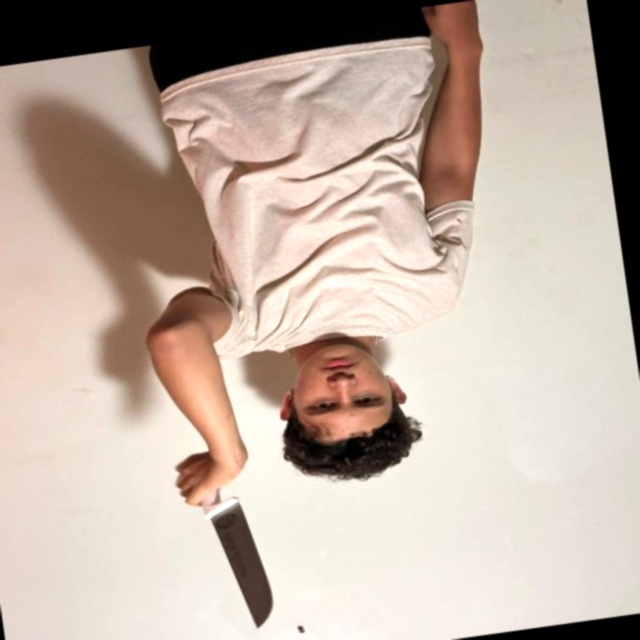Sharp-Object: (213, 508, 280, 632)
